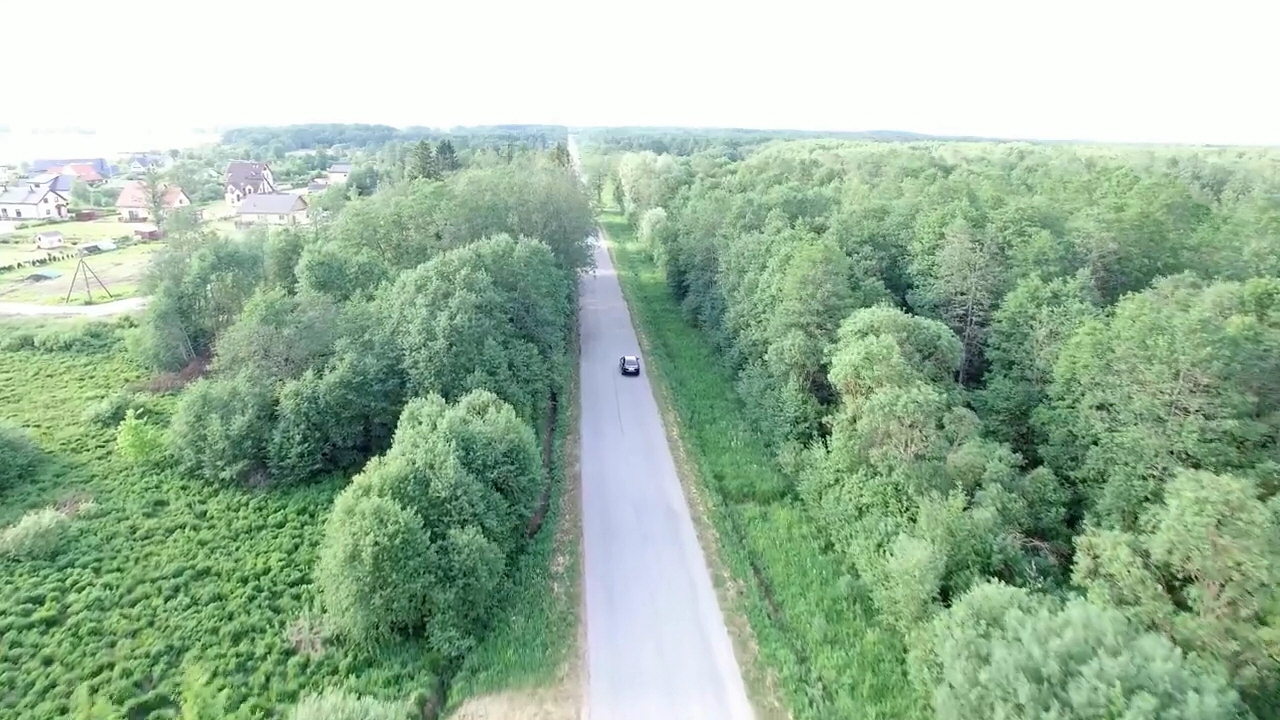araba: (620, 353, 639, 374)
